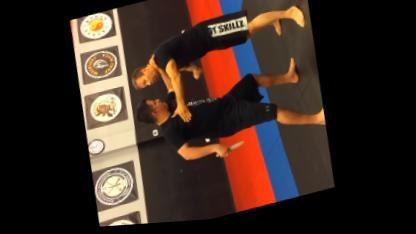knife: (212, 138, 250, 163)
